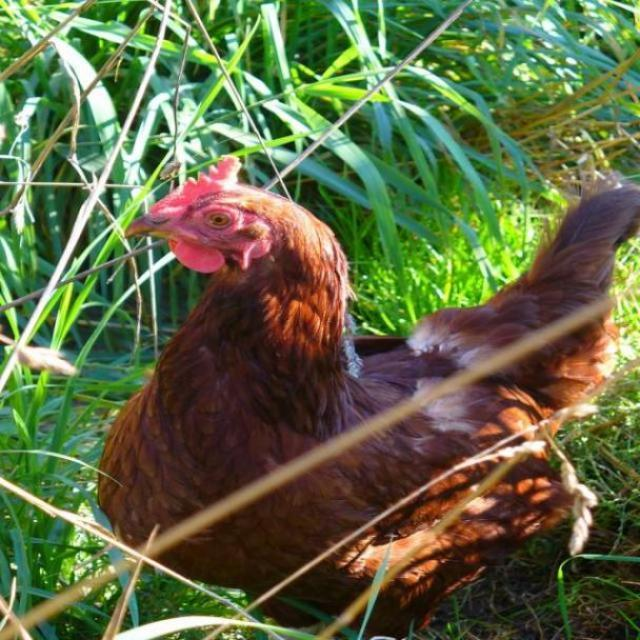Chicken: (70, 160, 639, 640)
